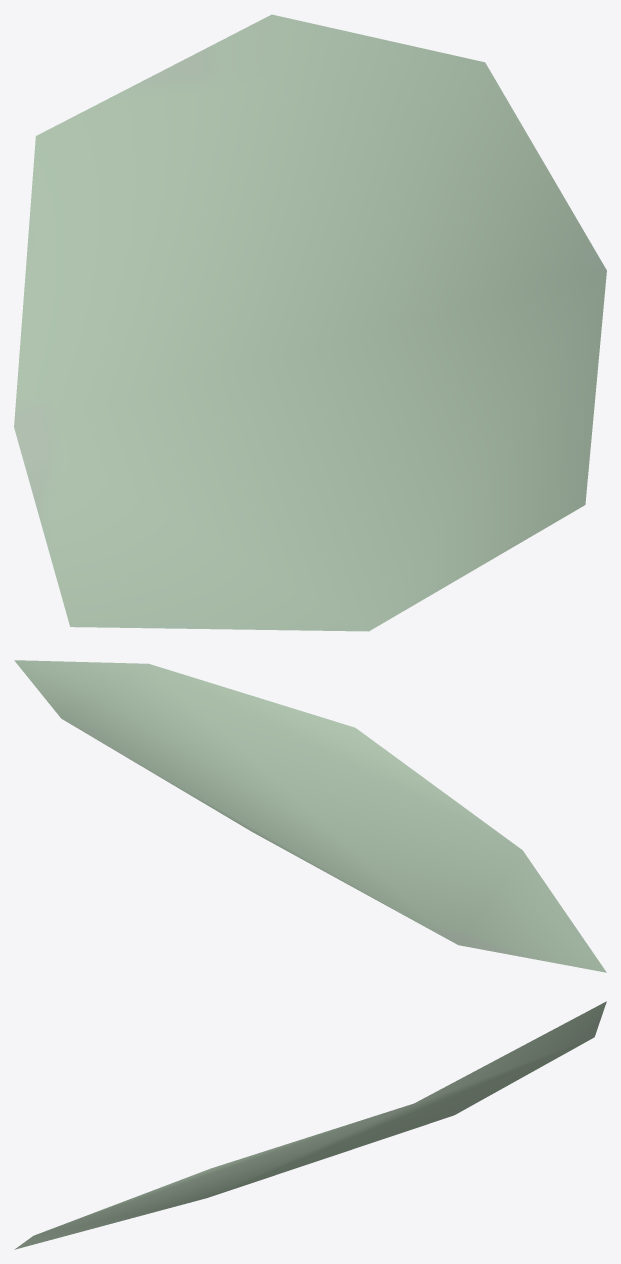
The model's file is TROLLHOLE02_HOLECAP181.fbx.
3 views of the same model, one above another, from view 1: azimuth 30°, elevation 25°; view 2: azimuth 150°, elevation 25°; view 3: azimuth 270°, elevation 25° (orthographic). The views are drawn at different scales.
Visible parts, largest first — view 1: TROLLHOLE02_HOLECAP181; view 2: TROLLHOLE02_HOLECAP181; view 3: TROLLHOLE02_HOLECAP181.
Boxes of the visible parts, x1,y1,x2,y2 form: TROLLHOLE02_HOLECAP181: [14, 14, 606, 631]; TROLLHOLE02_HOLECAP181: [14, 660, 606, 972]; TROLLHOLE02_HOLECAP181: [14, 1001, 606, 1249].
Size of the model in its own units: 22103 by 13462 by 23206.
1 material, 1 textured.
